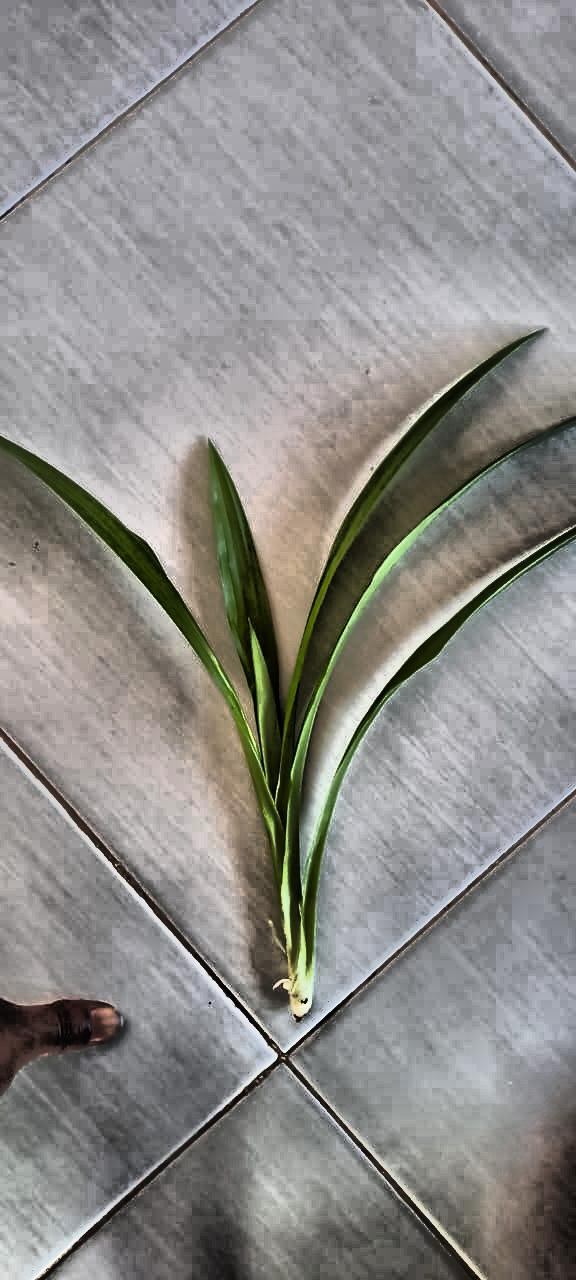daun pandan: (0, 334, 575, 1019)
